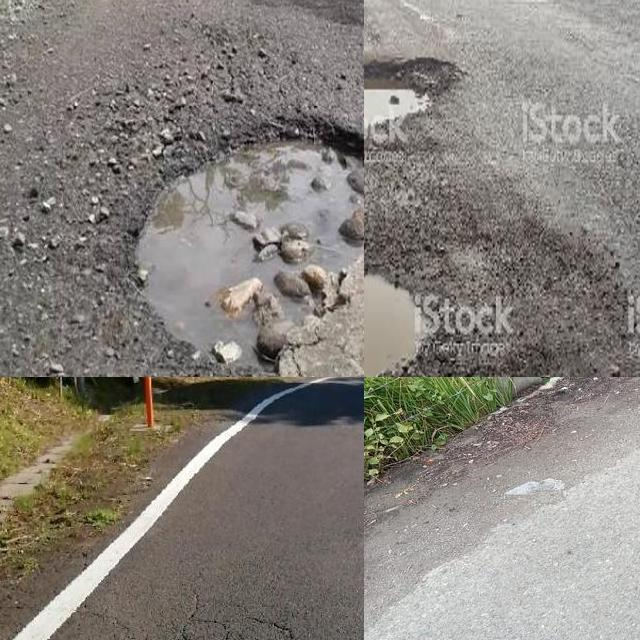Lubang: (123, 123, 364, 377), (364, 261, 435, 377), (364, 56, 451, 140)
